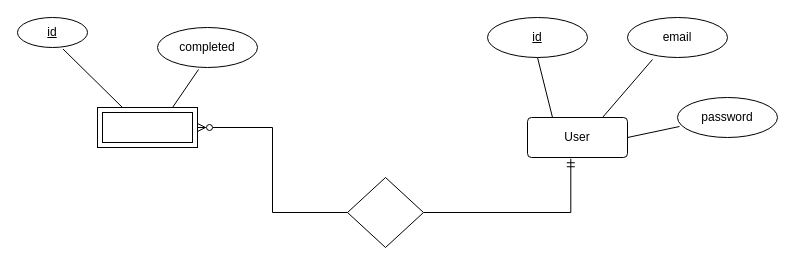
Some shapes in this 795 by 265 pixel diagram are drawn without their labels. The shapes that lost their labels are listed below. From the top down, each one's centre as x and y in pixels, then its label:
At point 147,127: "Todo".
At point 385,212: "has".
